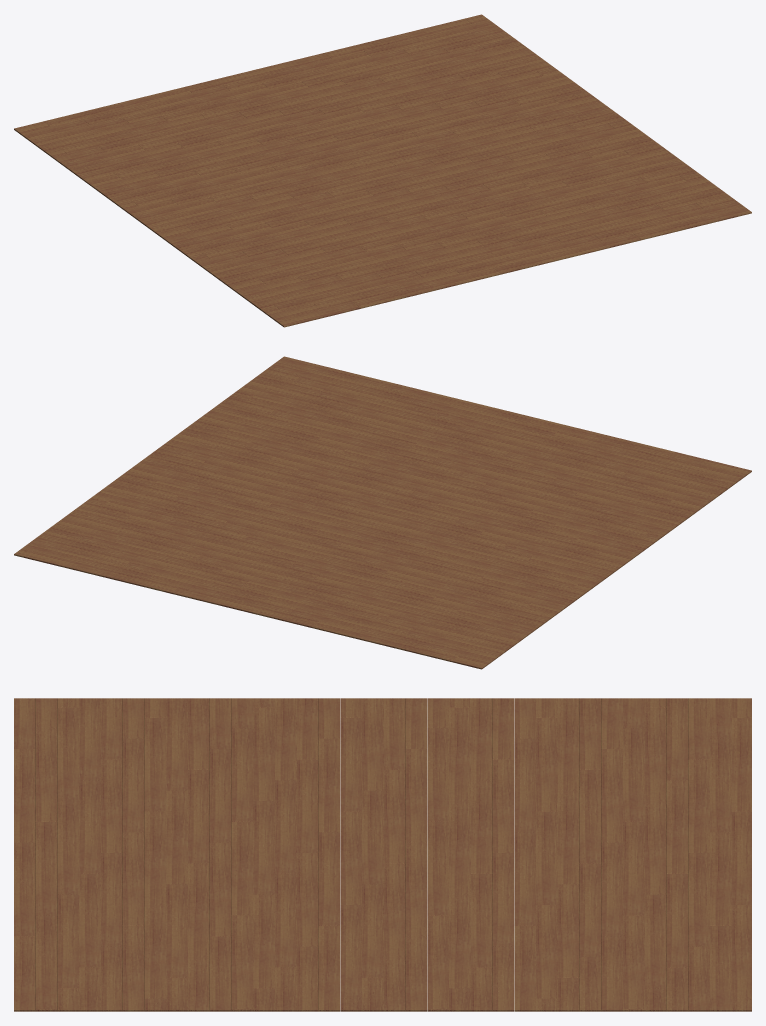
Rendered from floor.fbx.
3 views of the same model, one above another, from view 1: azimuth 30°, elevation 25°; view 2: azimuth 150°, elevation 25°; view 3: azimuth 270°, elevation 25° (orthographic). The views are drawn at different scales.
Visible parts, largest first — view 1: GL_Parquet_Classic_OBJ; view 2: GL_Parquet_Classic_OBJ; view 3: GL_Parquet_Classic_OBJ.
Boxes of the visible parts, x1=… form: GL_Parquet_Classic_OBJ: x1=14, y1=14, x2=751, y2=327; GL_Parquet_Classic_OBJ: x1=14, y1=356, x2=751, y2=669; GL_Parquet_Classic_OBJ: x1=14, y1=698, x2=751, y2=1011.
Size of the model in its own units: 600000 by 1600 by 600000.
1 material, 1 textured.
